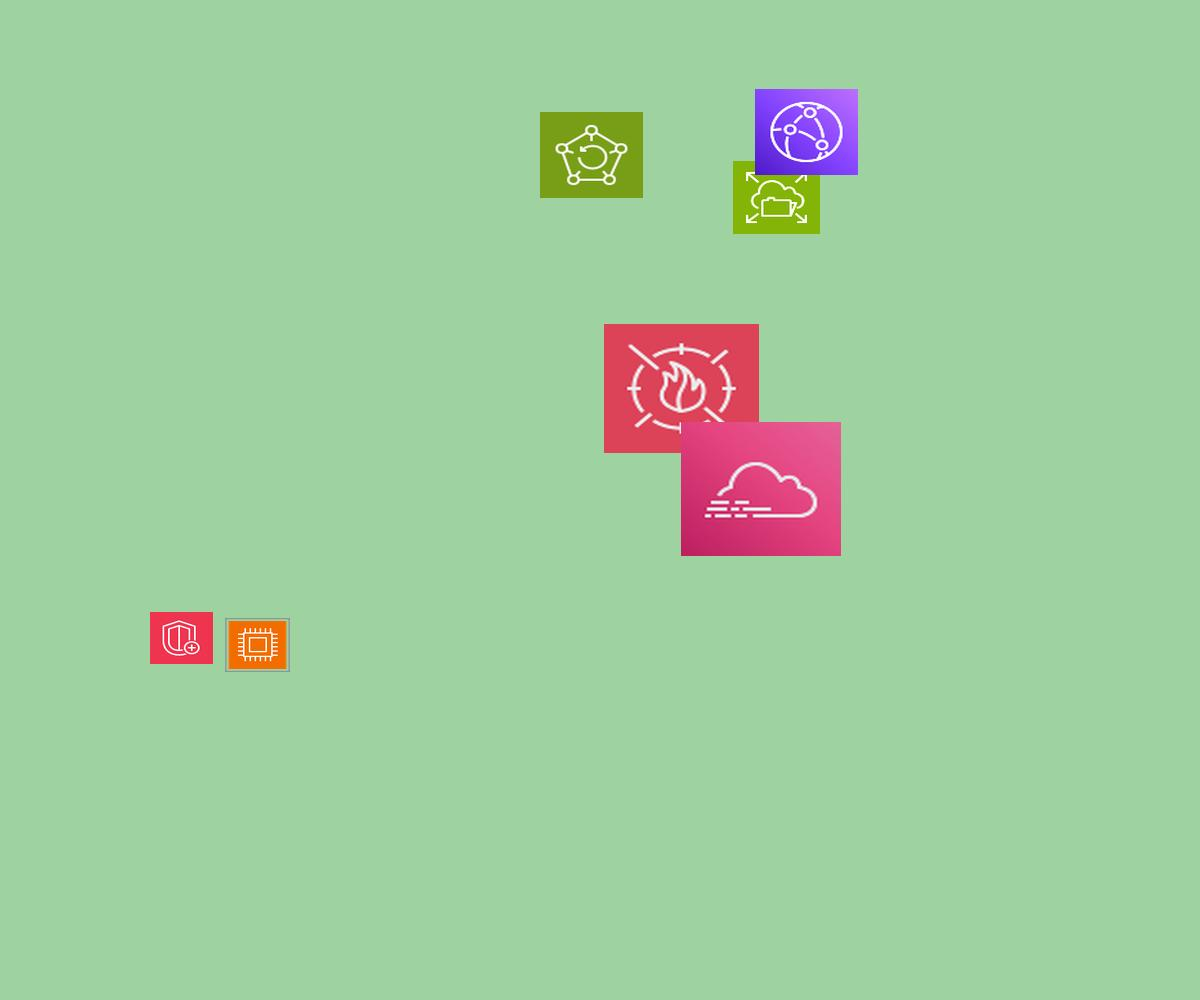AWS-Backup: (540, 112, 643, 198)
AWS-Category_Compute: (225, 618, 290, 672)
AWS-CloudFront: (755, 89, 858, 175)
AWS-CloudTrail: (681, 422, 841, 556)
AWS-EFS: (733, 161, 820, 234)
AWS-Shield: (150, 612, 213, 664)
AWS-WAF: (604, 324, 759, 453)
